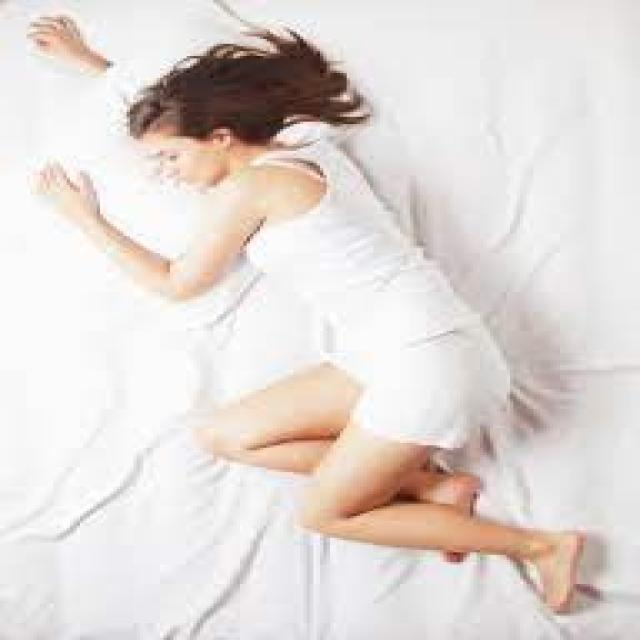sleeping-person: (13, 7, 613, 620)
